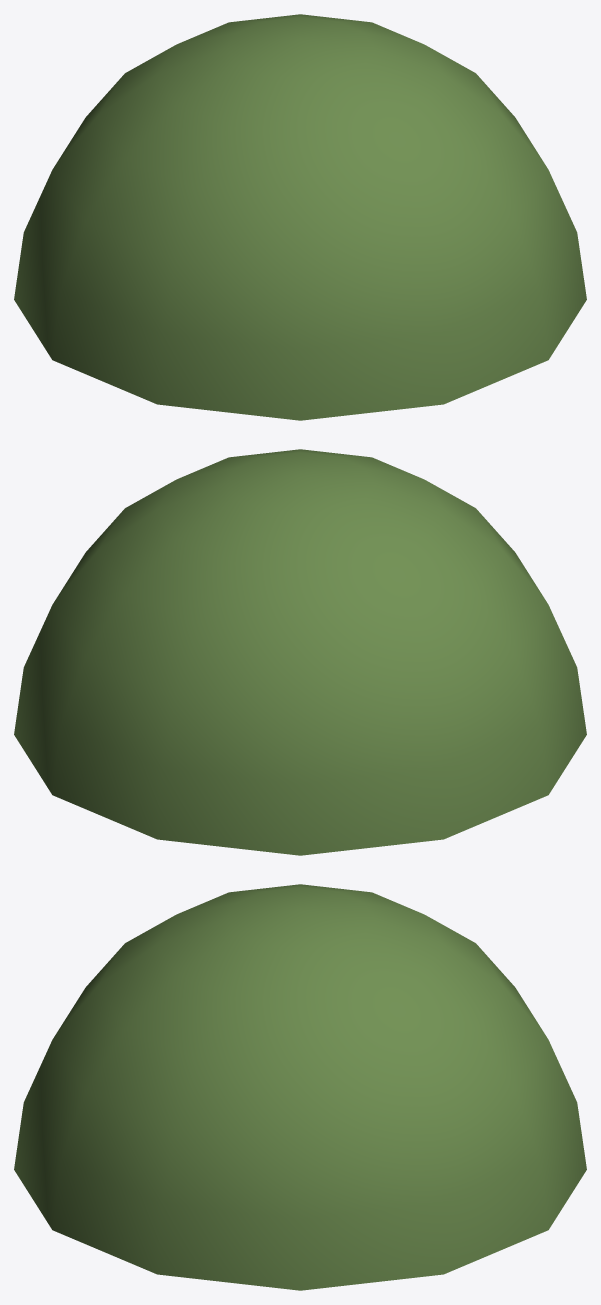
The model's file is Bush_00.fbx.
3 renders of one model, top to bottom at view 1: azimuth 30°, elevation 25°; view 2: azimuth 150°, elevation 25°; view 3: azimuth 270°, elevation 25°, orthographic.
Parts seen in each view (by area): view 1: Bush_00; view 2: Bush_00; view 3: Bush_00.
Boxes of the visible parts, x1=… form: Bush_00: x1=14, y1=14, x2=586, y2=420; Bush_00: x1=14, y1=449, x2=586, y2=855; Bush_00: x1=14, y1=884, x2=586, y2=1290.
Size of the model in its own units: 152 by 76.02 by 152.
